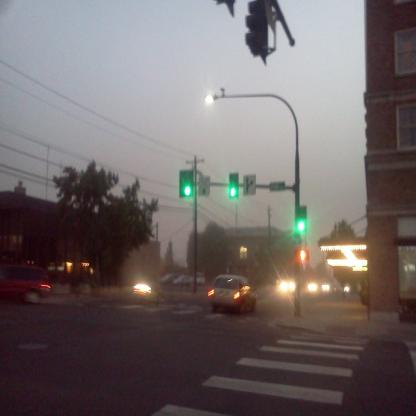Car: (1, 259, 52, 308), (210, 274, 259, 317), (174, 273, 198, 285)
